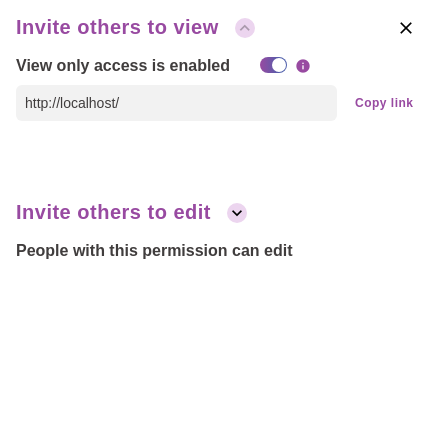
Scenario: Share Access Form › should toggle between the "Invite others to view" and "Invite others to edit" sections
This screenshot has width=433, height=443.
Check: the button with test id "multiModalExpandCollapseButton" reads "Invite others to view", box [16,16,255,39]
Check: the button with test id "multiModalExpandCollapseButton" showing "Invite others to view" is disabled, box [16,16,255,39]
Click the button with test id "multiModalExpandCollapseButton" showing "Invite others to edit". click: [132, 212]
box: [16,201,247,224]
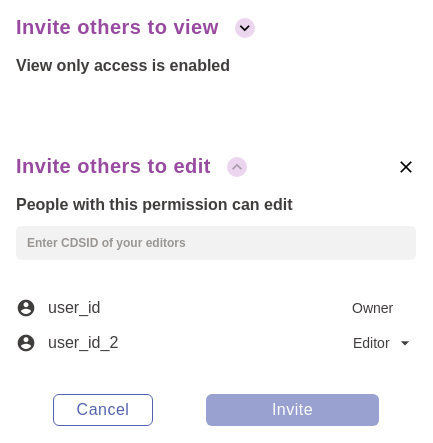
Check: the button with test id "multiModalExpandCollapseButton" showing "Invite others to view" is enabled
Check: the text "Enter CDSID of your editors" is shown, box [27,236,186,250]
Check: the text "user_id" is shown, box [48,299,100,316]
Click the button with test id "multiModalExpandCollapseButton" showing "Invite others to view". click: [135, 28]
box: [16,16,255,39]
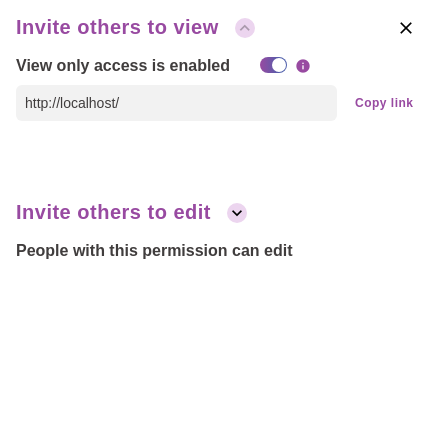
Check: the button with test id "multiModalExpandCollapseButton" showing "Invite others to view" is disabled, box [16,16,255,39]
Check: the button "Copy link" is shown, box [352,96,416,110]
Check: the button with test id "multiModalExpandCollapseButton" showing "Invite others to edit" is enabled, box [16,201,247,224]
